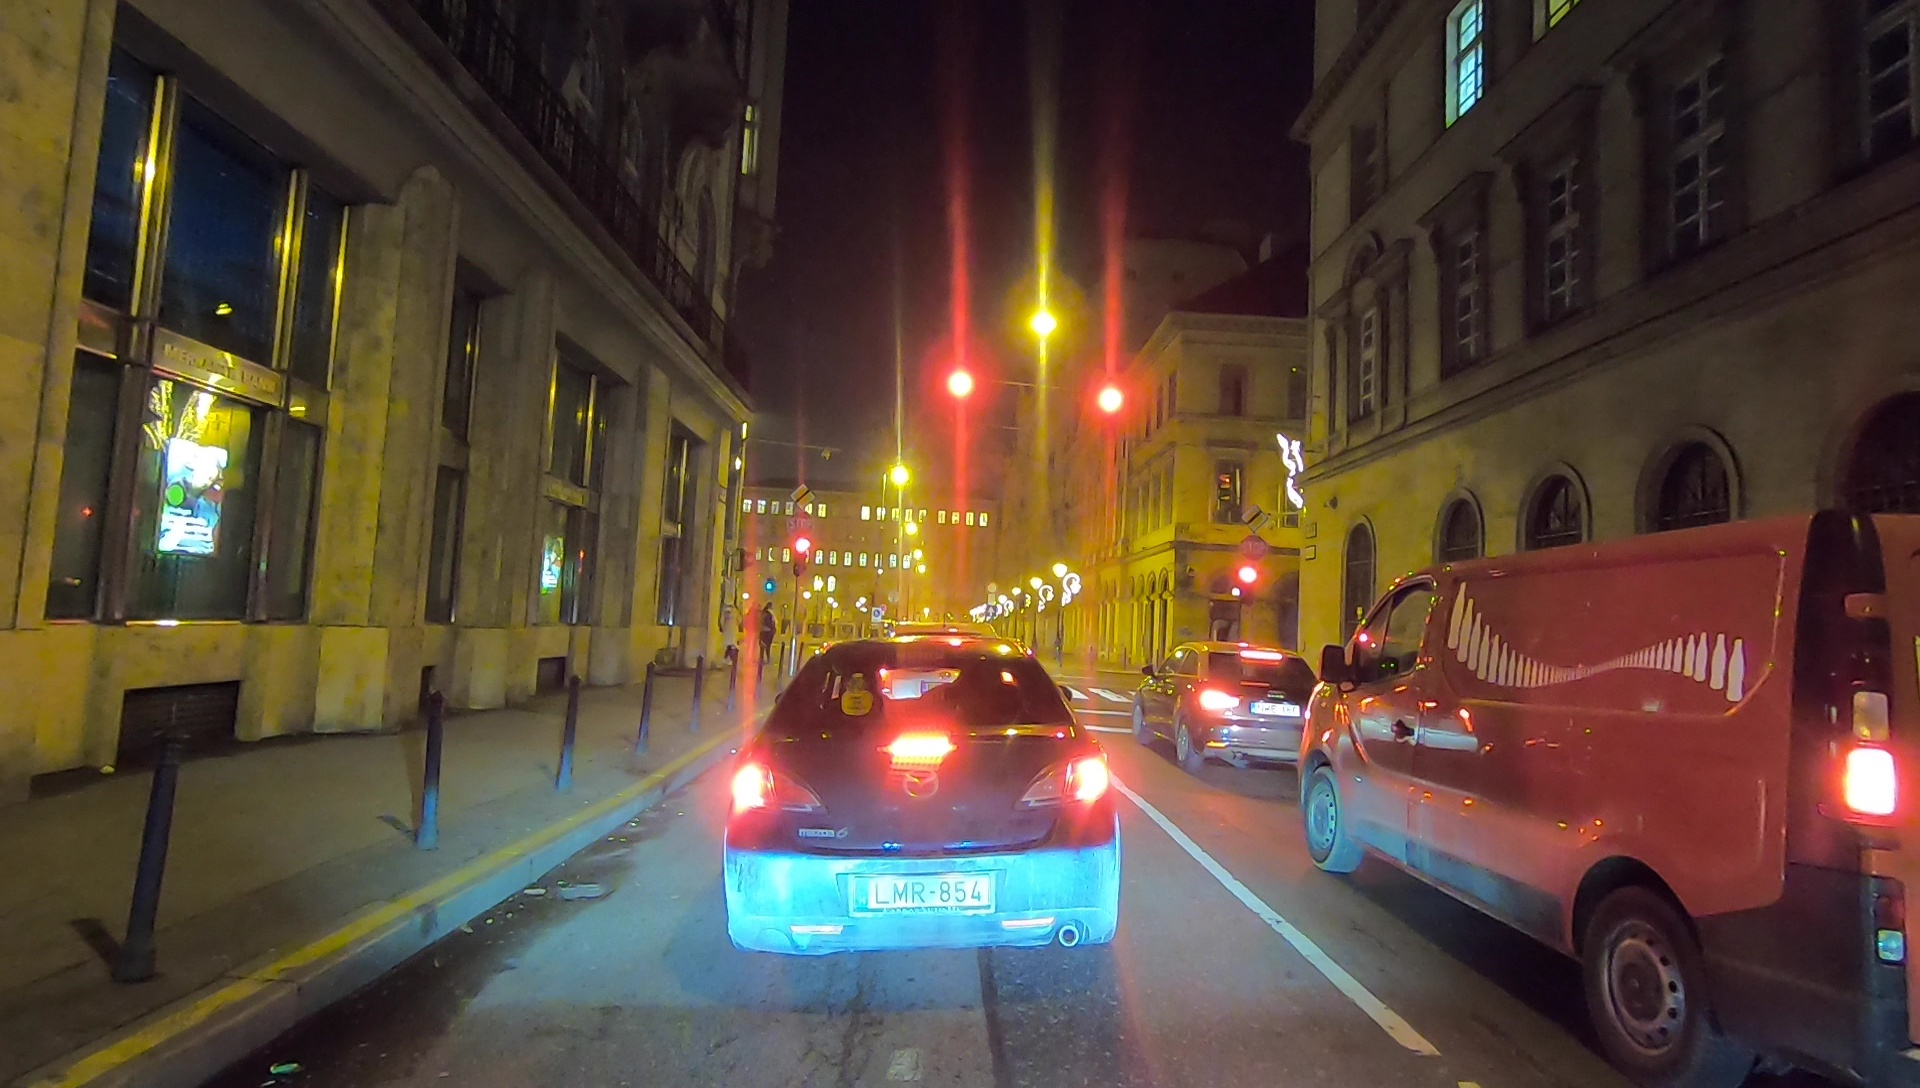person: (723, 606, 743, 669), (754, 610, 775, 663)
